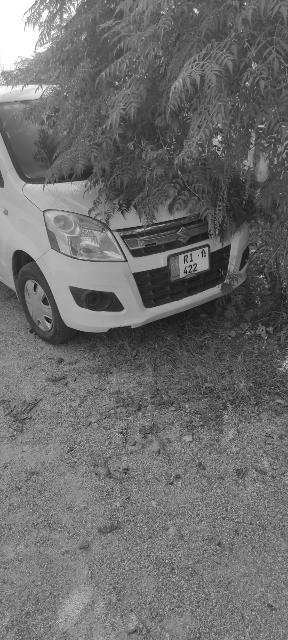Number: (182, 251, 199, 276)
